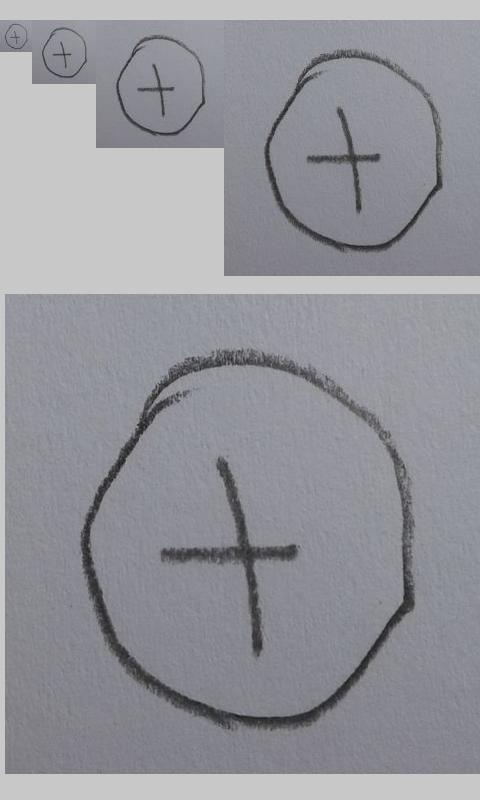button: (79, 347, 418, 735), (264, 48, 444, 254), (116, 34, 207, 136), (41, 27, 87, 78), (4, 23, 28, 50)
